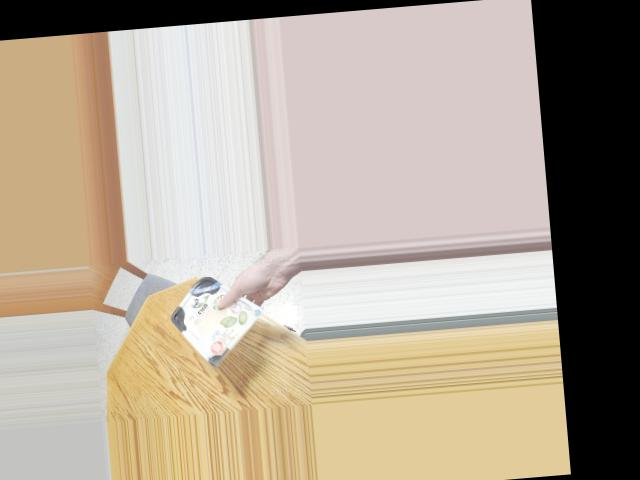cheese: (175, 273, 250, 357)
